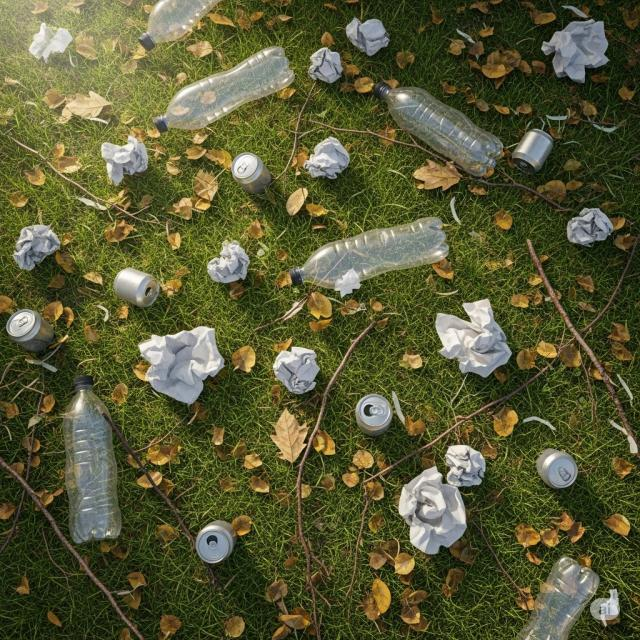aluminum: (4, 309, 61, 352), (111, 269, 164, 309), (538, 445, 580, 493), (354, 390, 394, 437), (514, 128, 554, 172), (196, 522, 236, 566), (234, 152, 270, 198)
paper: (136, 324, 226, 406), (432, 297, 514, 378), (403, 468, 468, 552), (536, 16, 616, 83), (274, 343, 321, 399), (439, 445, 491, 490), (208, 238, 252, 290), (102, 135, 149, 182), (14, 225, 64, 269), (309, 136, 353, 186), (342, 18, 392, 61), (568, 205, 613, 252), (307, 48, 347, 88)
plastic: (151, 41, 299, 134), (372, 78, 506, 180), (290, 215, 451, 292), (66, 374, 123, 542), (512, 558, 604, 640), (139, 0, 221, 55)
